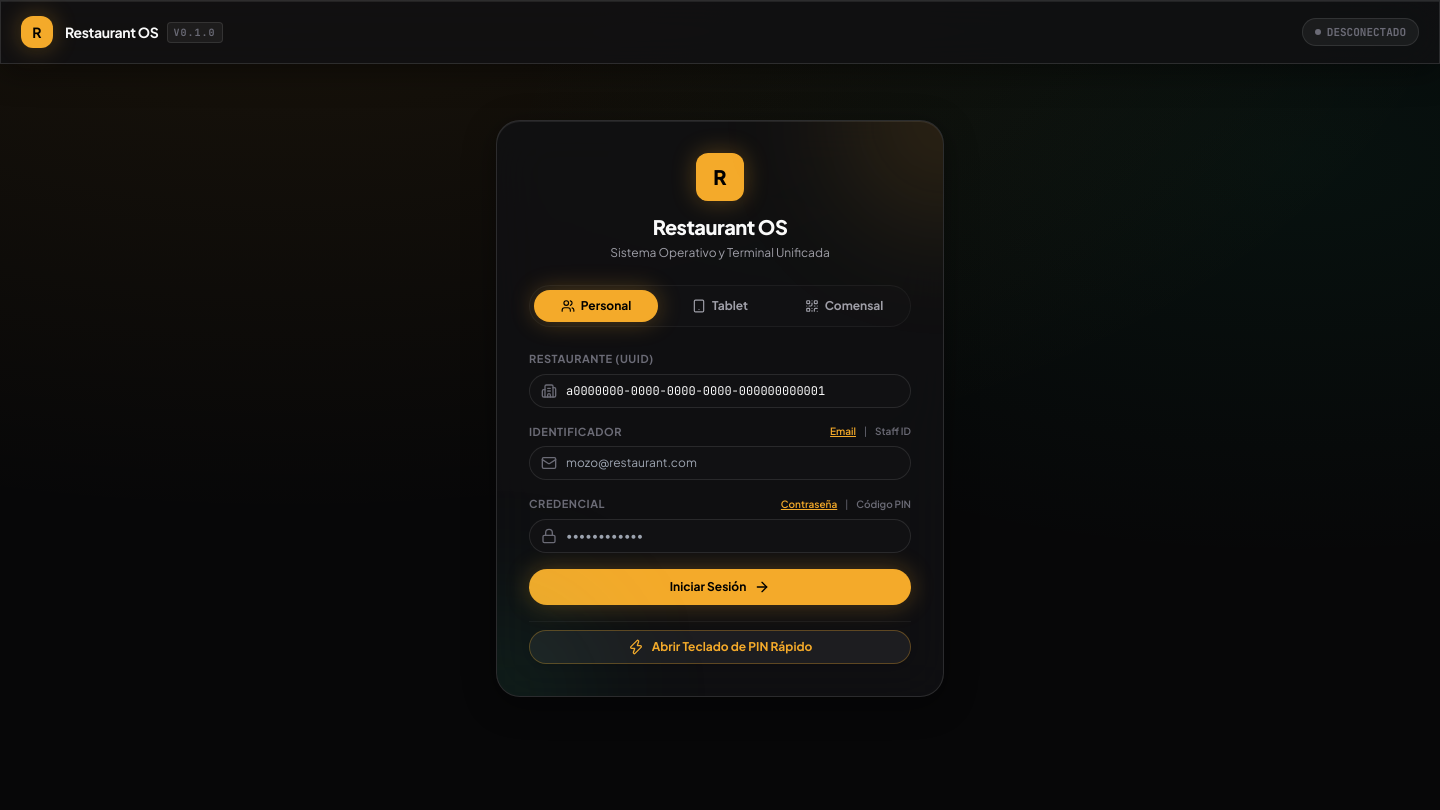
it: Step 3.5 — Frontend Authentication, Authorization & Session Management › 2. Staff Authentication (Password & PIN) › 2.3. Shows generic error message upon invalid credentials
Type "wrong@restaurant.com" into the field with placeholder "mozo@restaurant.com" at (720, 463), box x1=529 y1=446 x2=911 y2=480
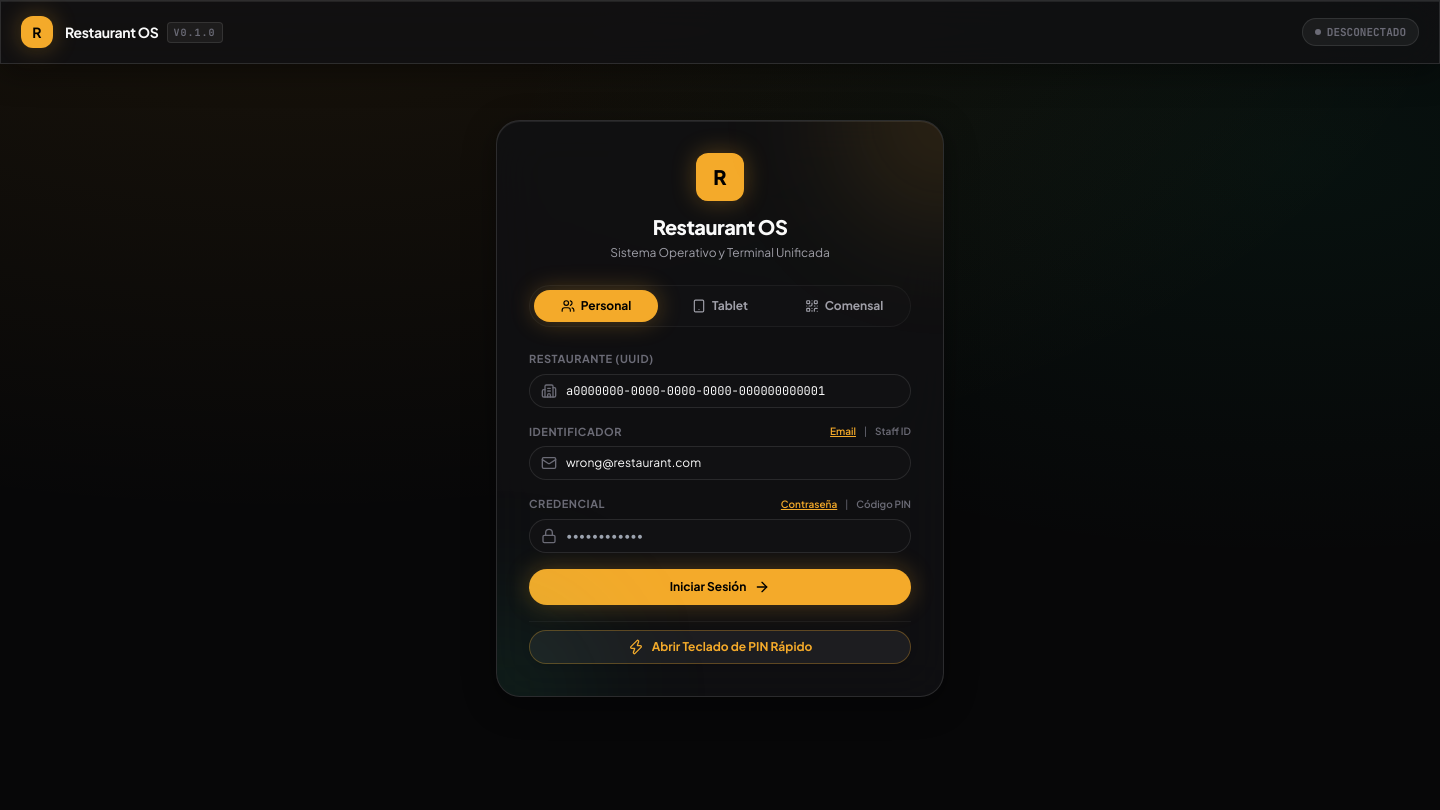
Type "wrongpass" into the password field with placeholder "••••••••••••" at (720, 536), box x1=529 y1=518 x2=911 y2=552
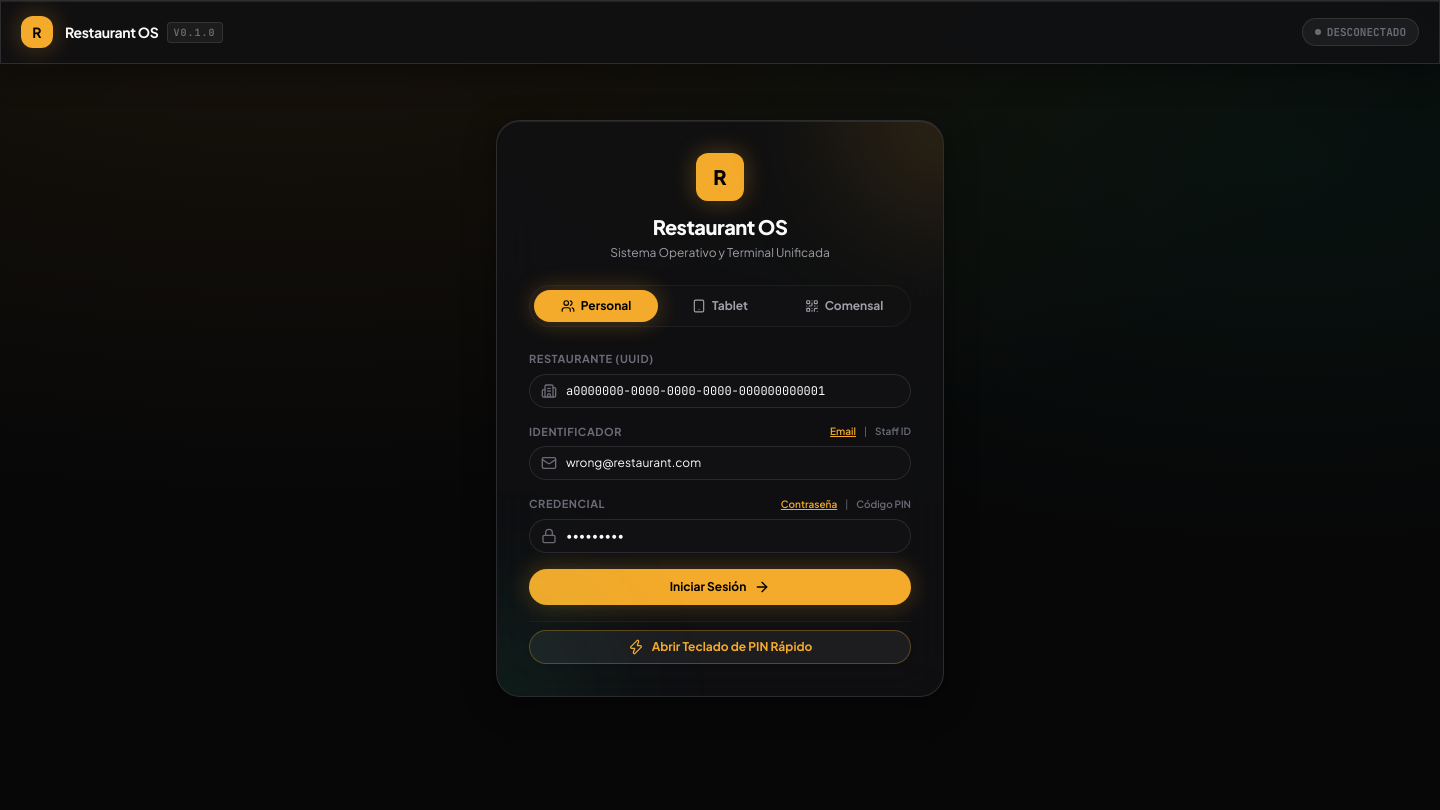
Click the button "Iniciar Sesión" at (720, 586), box x1=529 y1=568 x2=911 y2=604
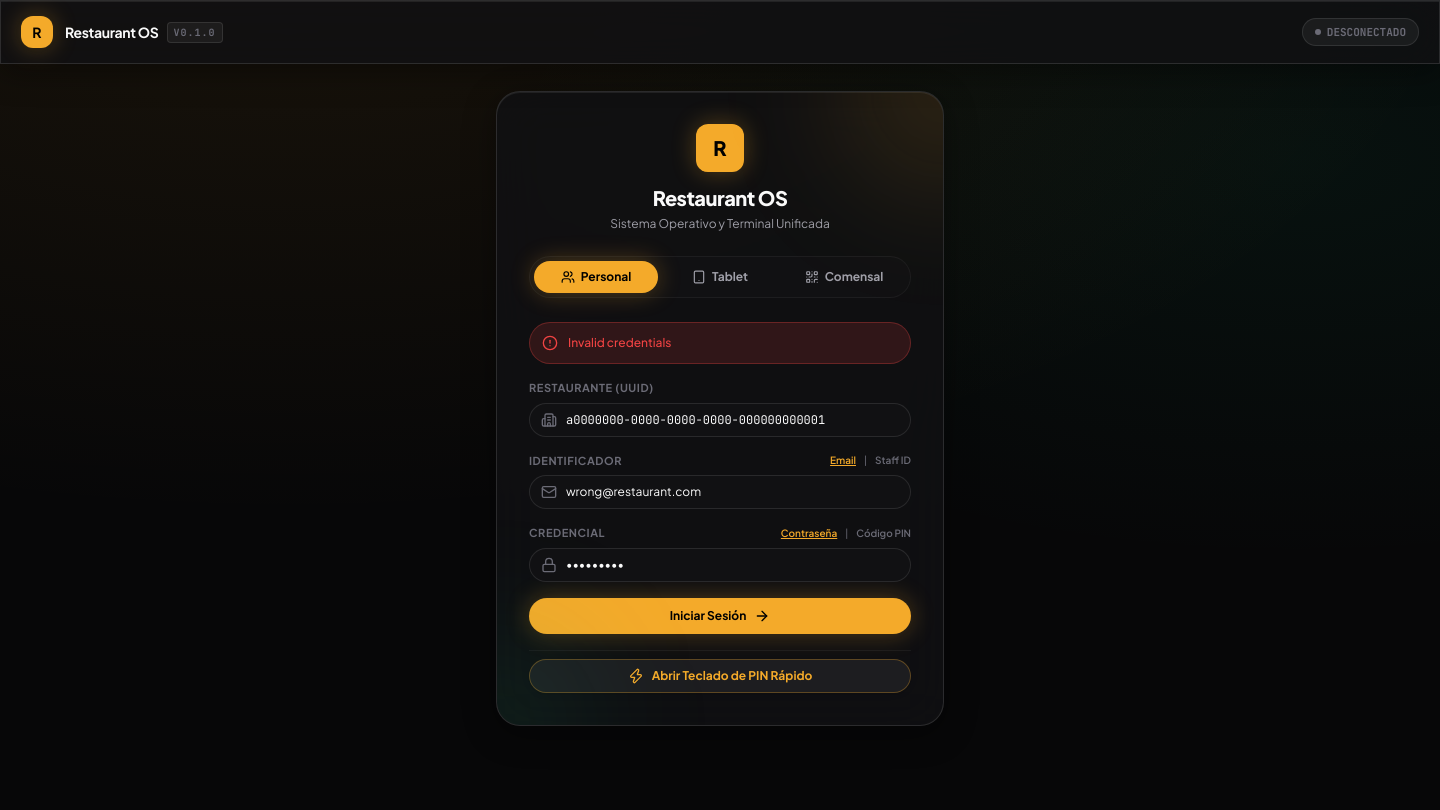
Result: the text "Invalid credentials" is shown at x1=568 y1=335 x2=672 y2=351
